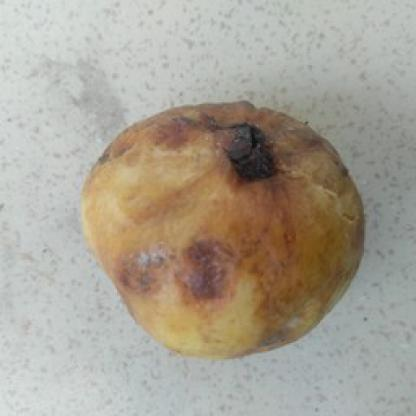guava_rotten: (75, 93, 366, 366)
